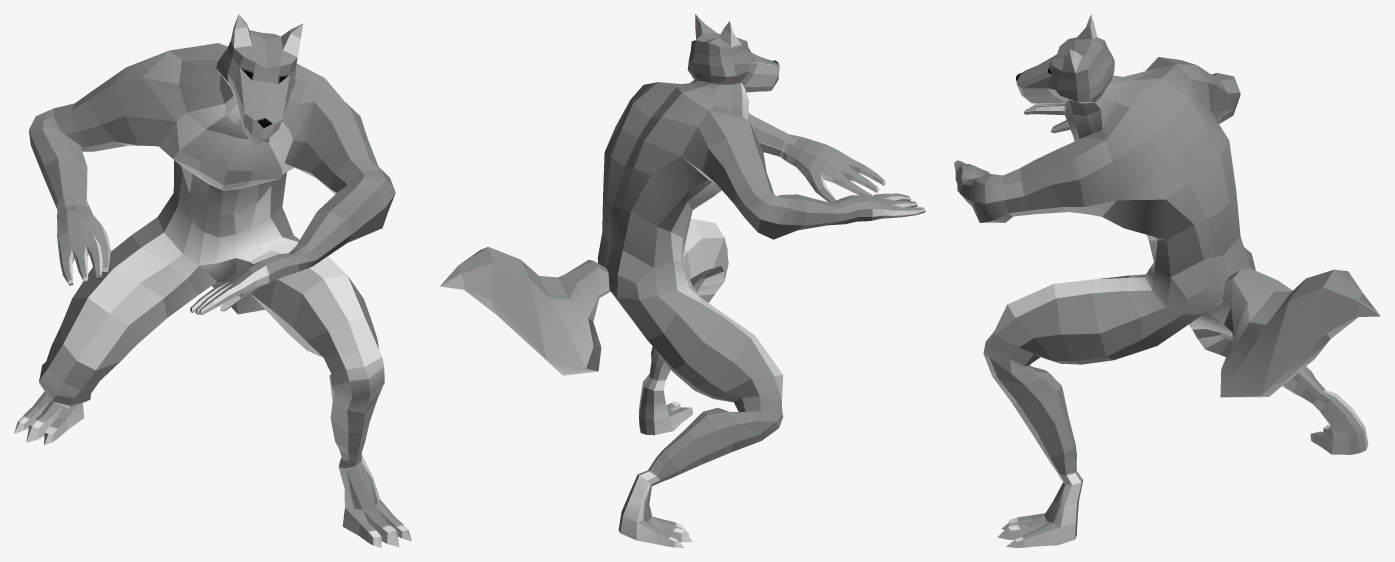
The model's file is WolfAttack(14).obj.
3 views of the same model, side by side, from view 1: azimuth 30°, elevation 25°; view 2: azimuth 150°, elevation 25°; view 3: azimuth 270°, elevation 25° (orthographic). The views are drawn at different scales.
Parts seen in each view (by area): view 1: Box001; view 2: Box001; view 3: Box001.
Part boxes in pixels (left/top/right/bottom): Box001: left=14, top=14, right=411, bottom=547; Box001: left=440, top=14, right=925, bottom=547; Box001: left=954, top=14, right=1380, bottom=547.
Size of the model in its own units: 98.37 by 128 by 104.
